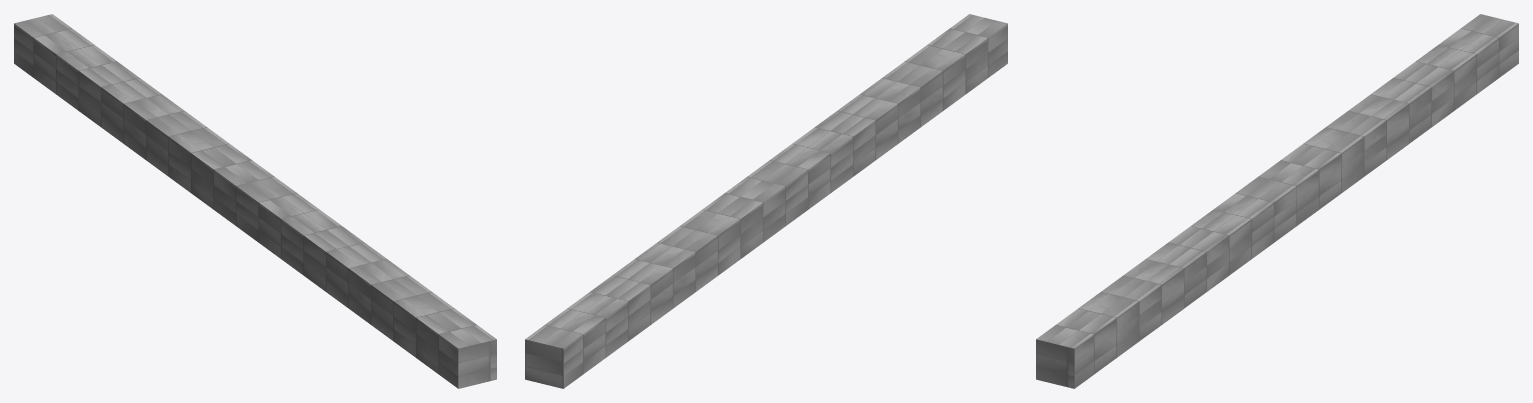
The model's file is SM_Curb_01.fbx.
The picture shows the model from 3 angles, left to right: view 1: azimuth 30°, elevation 25°; view 2: azimuth 150°, elevation 25°; view 3: azimuth 330°, elevation 25°; orthographic projection.
Parts seen in each view (by area): view 1: SM_Curb_01; view 2: SM_Curb_01; view 3: SM_Curb_01.
Part boxes in pixels (box(x1,y1,x2,y2)): SM_Curb_01: box(14, 14, 496, 388); SM_Curb_01: box(525, 14, 1007, 388); SM_Curb_01: box(1036, 14, 1518, 388).
Bounding box in the file's own units: 5 × 100 × 5.
Materials: 1 (1 with a texture image).
